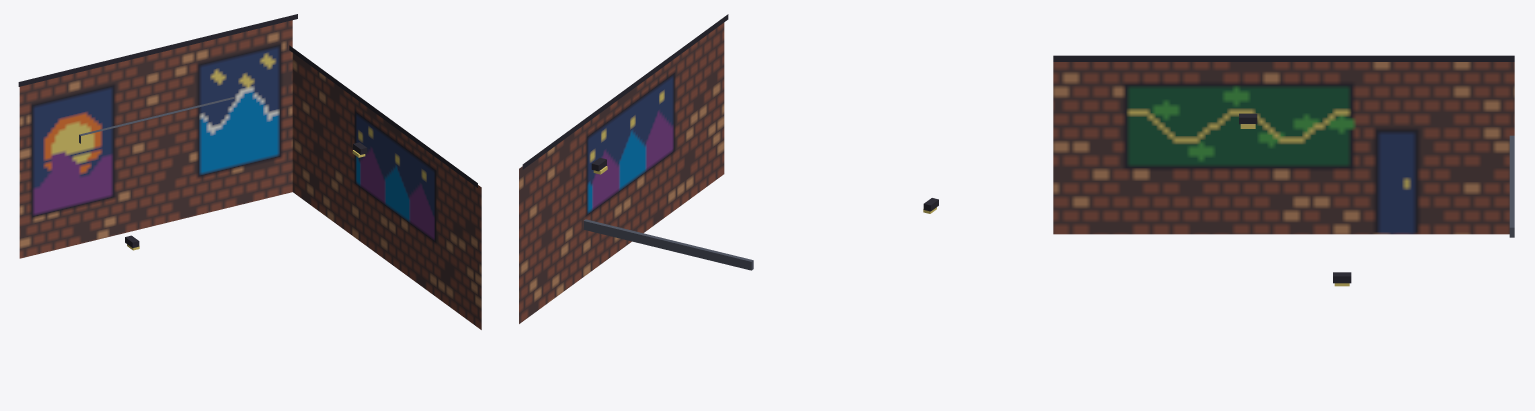
The model's file is walls.glb.
3 renders of one model, left to right at view 1: azimuth 30°, elevation 25°; view 2: azimuth 150°, elevation 25°; view 3: azimuth 270°, elevation 25°, orthographic. The views are drawn at different scales.
Parts seen in each view (by area): view 1: BackWall, RightWall, CapBack, CapRight, Rail; view 2: RightWall, Rail, CapRight; view 3: LeftWall, CapLeft, Rail.
Part boxes in pixels (<box>): BackWall: <box>19,20,292,258</box>; RightWall: <box>292,53,481,329</box>; CapBack: <box>18,14,297,86</box>; CapRight: <box>289,45,477,187</box>; Rail: <box>79,97,234,143</box>; RightWall: <box>519,22,724,323</box>; Rail: <box>583,219,753,270</box>; CapRight: <box>522,14,728,169</box>; LeftWall: <box>1053,62,1514,234</box>; CapLeft: <box>1053,55,1514,61</box>; Rail: <box>1509,135,1514,237</box>.
Bounding box in the file's own units: 9.4 × 5.76 × 11.16.
7 materials, 3 textured.
